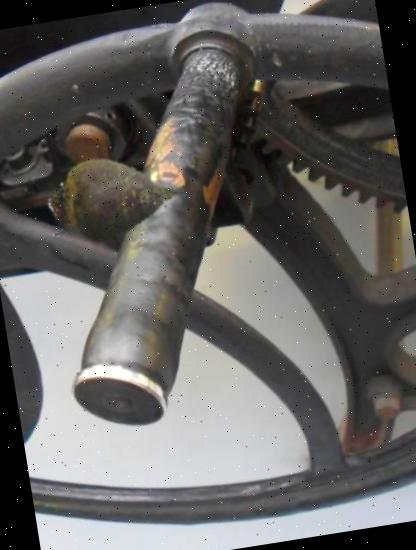Beetroot: (30, 111, 200, 281)
